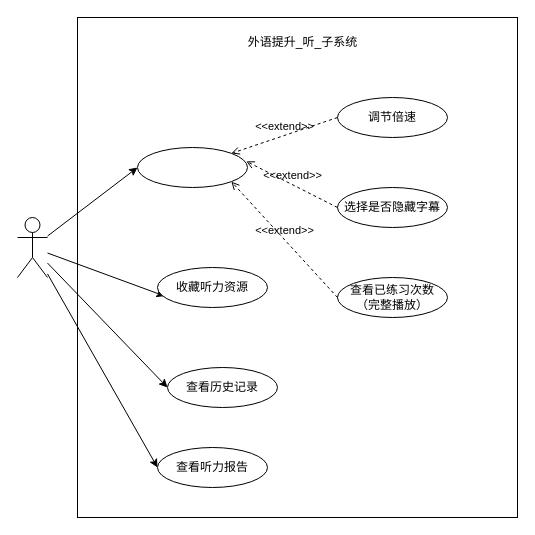
Image size: 535x535. Some labels were removed from this diagram. The shapes that lost their labels are listed below. From the top down, each one's centre as x and y in pixels, then its label:
At (192,167): "播放听力资源".
At (32,247): "用户".
